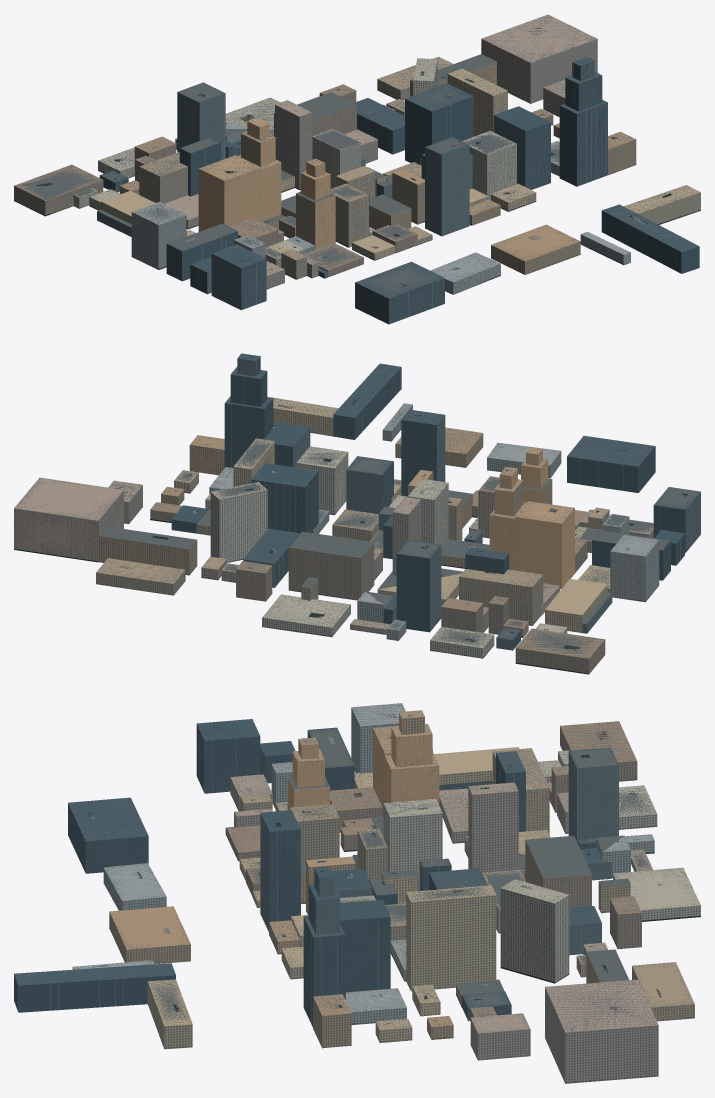
Rendered from cincinnati.glb.
3 renders of one model, top to bottom at view 1: azimuth 30°, elevation 25°; view 2: azimuth 150°, elevation 25°; view 3: azimuth 270°, elevation 25°, orthographic. The views are drawn at different scales.
Visible parts, largest first — view 1: Curtain wall spandrel, Roof membrane, Facade glass, Carew buff brick, Facade masonry-6, Masonry 6, Facade masonry-4, Facade masonry-0, Masonry 1, Facade masonry-3, Masonry 3, Masonry 2 (+10 smaller); view 2: Curtain wall spandrel, Roof membrane, Facade masonry-2, Facade masonry-3, Masonry 6, Carew buff brick, Facade glass, Facade masonry-6, Facade masonry-0, Masonry 3, Facade masonry-4, Masonry 1 (+10 smaller); view 3: Curtain wall spandrel, Roof membrane, Facade glass, Facade masonry-6, Facade masonry-1, Facade masonry-3, Masonry 6, Carew buff brick, Masonry 3, Masonry 1, Masonry 0, Facade masonry-0 (+11 smaller).
Boxes of the visible parts, x1,y1,x2,y2 form: Curtain wall spandrel: (98,56,699,324); Roof membrane: (15,15,700,297); Facade glass: (97,58,681,323); Carew buff brick: (198,118,335,249); Facade masonry-6: (186,39,597,289); Masonry 6: (164,14,596,277); Facade masonry-4: (119,62,636,274); Facade masonry-0: (139,79,432,279); Masonry 1: (101,68,700,260); Facade masonry-3: (73,60,516,254); Masonry 3: (74,58,516,251); Masonry 2: (14,84,552,275); Curtain wall spandrel: (171,353,700,649); Roof membrane: (15,354,699,658); Facade masonry-2: (150,505,605,673); Facade masonry-3: (210,452,567,658); Masonry 6: (14,477,653,634); Carew buff brick: (489,447,574,589); Facade glass: (231,355,700,650); Facade masonry-6: (14,485,653,634); Facade masonry-0: (96,477,609,625); Masonry 3: (211,446,575,656); Facade masonry-4: (98,433,528,637); Masonry 1: (174,396,610,632); Curtain wall spandrel: (14,719,618,1026); Roof membrane: (15,703,700,1032); Facade glass: (68,719,618,1025); Facade masonry-6: (230,777,658,1083); Facade masonry-1: (147,770,525,1049); Facade masonry-3: (307,751,700,983); Masonry 6: (230,774,658,1060); Carew buff brick: (287,710,439,818); Masonry 3: (340,750,700,980); Masonry 1: (148,747,550,1041); Masonry 0: (240,748,694,1021); Facade masonry-0: (240,751,694,1020).
Size of the model in its own units: 103 by 20.28 by 87.28.
Materials: 23 (9 with a texture image).
